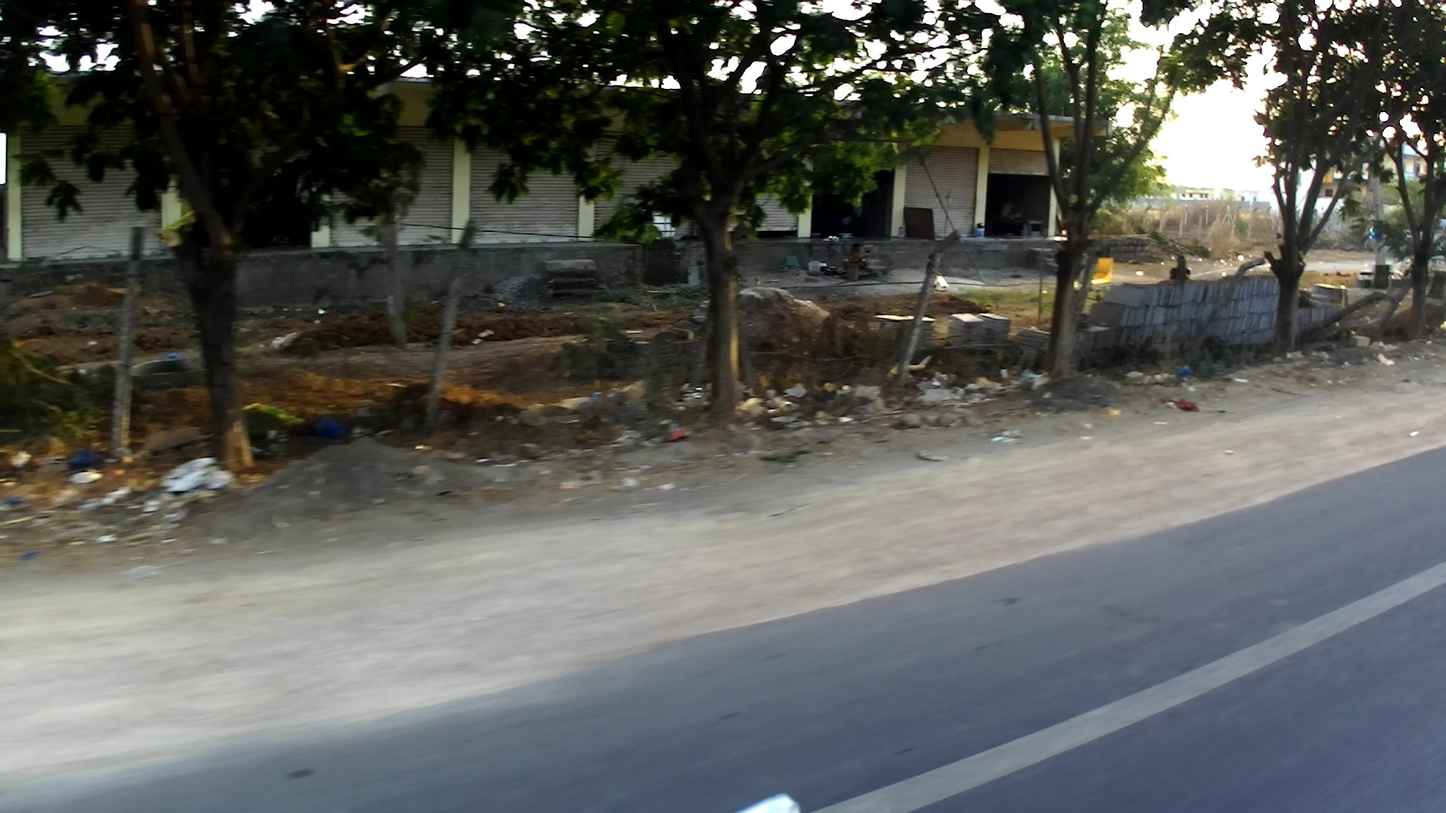person: (846, 241, 877, 279), (1168, 251, 1194, 279)
